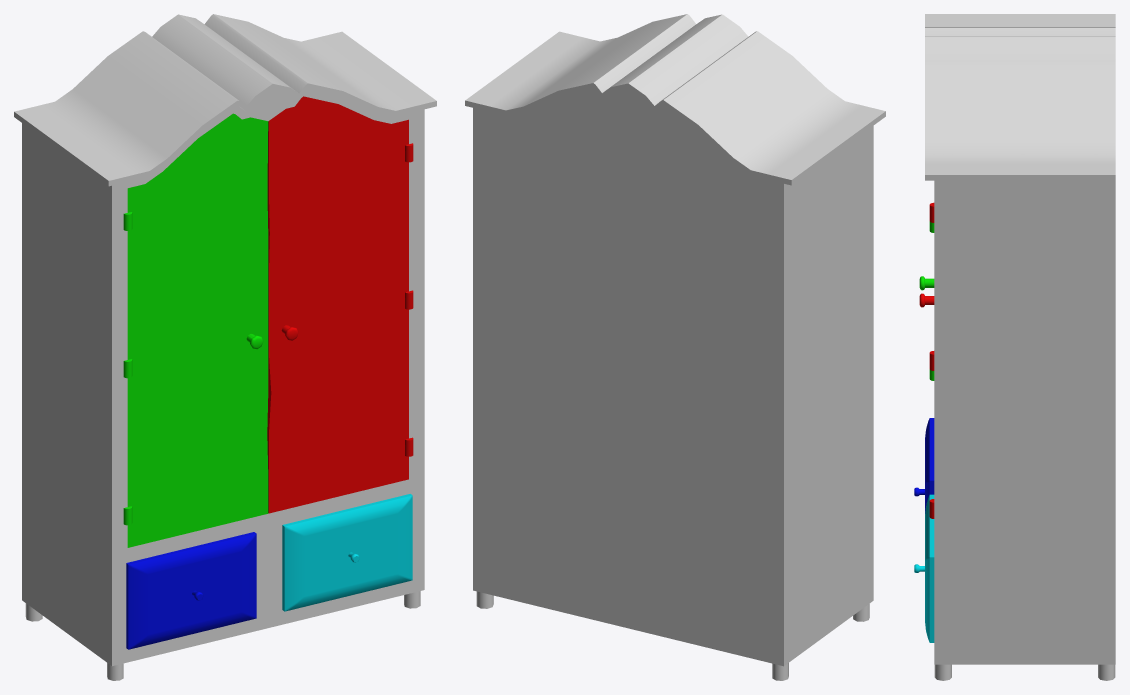
File: kast.fbx
3 renders of one model, left to right at view 1: azimuth 30°, elevation 25°; view 2: azimuth 150°, elevation 25°; view 3: azimuth 270°, elevation 25°, orthographic.
Visible parts, largest first — view 1: Cube, Cube.001, Cube.002, Cube.003, Cube.004; view 2: Cube; view 3: Cube, Cube.004, Cube.003, Cube.002.
Part boxes in pixels (bbox=[...]): Cube: bbox=[14, 14, 436, 680]; Cube.001: bbox=[123, 113, 268, 547]; Cube.002: bbox=[267, 96, 413, 513]; Cube.003: bbox=[126, 532, 256, 649]; Cube.004: bbox=[282, 494, 412, 611]; Cube: bbox=[465, 14, 885, 680]; Cube: bbox=[925, 14, 1115, 680]; Cube.004: bbox=[914, 494, 934, 642]; Cube.003: bbox=[914, 418, 934, 513]; Cube.002: bbox=[919, 202, 934, 518].
Bounding box in the file's own units: 2.1 × 3.45 × 1.11.
